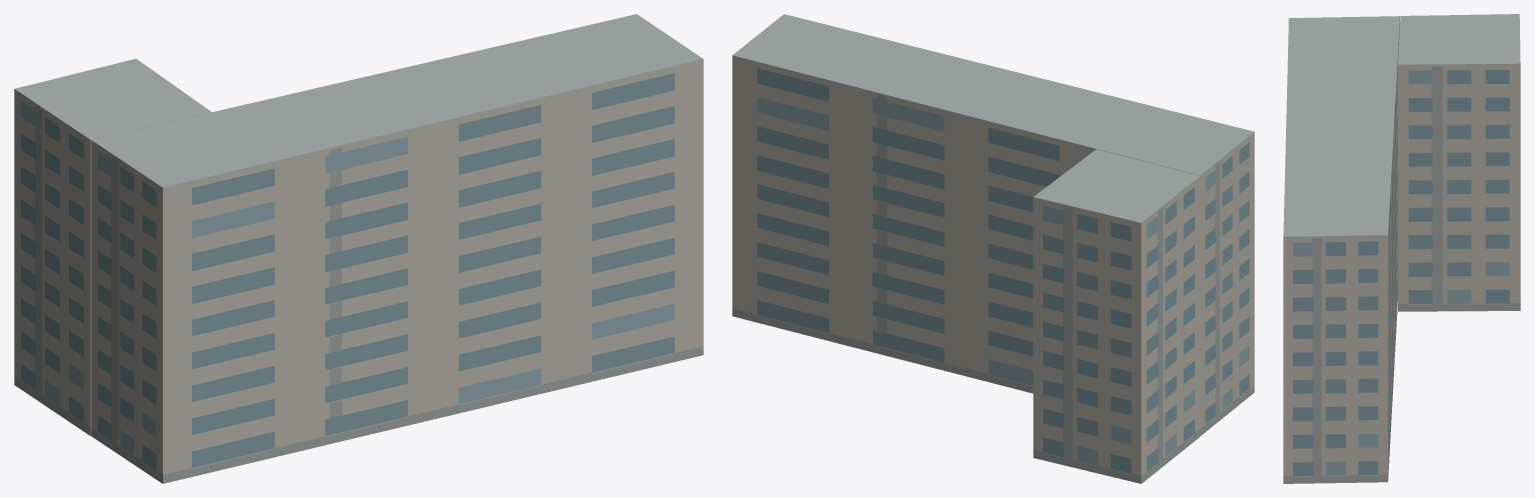
File: residential-4df73f2c-301e-4858-978a-ff2fe5914f63.glb
3 views of the same model, side by side, from view 1: azimuth 30°, elevation 25°; view 2: azimuth 150°, elevation 25°; view 3: azimuth 270°, elevation 25° (orthographic). The views are drawn at different scales.
Visible parts, largest first — view 1: residential-4df73f2c-301e-4858-978a-ff2fe5914f63.tmp; view 2: residential-4df73f2c-301e-4858-978a-ff2fe5914f63.tmp; view 3: residential-4df73f2c-301e-4858-978a-ff2fe5914f63.tmp.
Boxes of the visible parts, x1,y1,x2,y2 form: residential-4df73f2c-301e-4858-978a-ff2fe5914f63.tmp: (14,14,703,483); residential-4df73f2c-301e-4858-978a-ff2fe5914f63.tmp: (732,14,1254,483); residential-4df73f2c-301e-4858-978a-ff2fe5914f63.tmp: (1283,14,1520,483).
Size of the model in its own units: 53.09 by 27.45 by 23.88.
